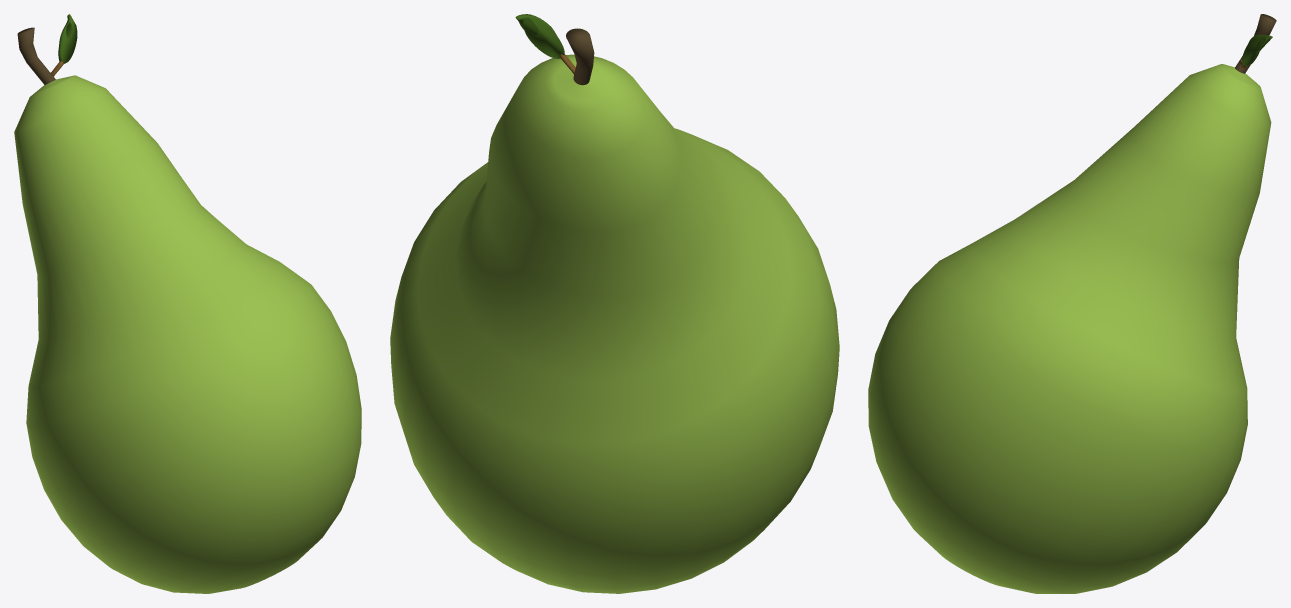
The model's file is paarynavaritys.fbx.
3 renders of one model, left to right at view 1: azimuth 30°, elevation 25°; view 2: azimuth 150°, elevation 25°; view 3: azimuth 270°, elevation 25°, orthographic. The views are drawn at different scales.
Visible parts, largest first — view 1: päärynä, iso varsi, lehti; view 2: päärynä, lehti, iso varsi; view 3: päärynä.
Part boxes in pixels (x1=…): päärynä: x1=14, y1=75, x2=361, y2=593; iso varsi: x1=17, y1=27, x2=55, y2=84; lehti: x1=58, y1=14, x2=77, y2=63; päärynä: x1=390, y1=54, x2=839, y2=593; lehti: x1=515, y1=14, x2=564, y2=58; iso varsi: x1=566, y1=28, x2=594, y2=85; päärynä: x1=868, y1=64, x2=1271, y2=593.
Bounding box in the file's own units: 183 × 307 × 214.
